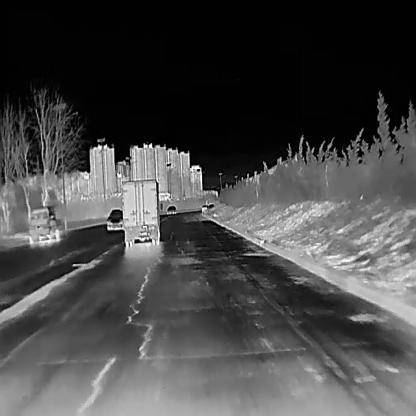car: (120, 178, 162, 248), (28, 204, 66, 244), (106, 208, 123, 229), (166, 205, 177, 213), (200, 203, 208, 211)
